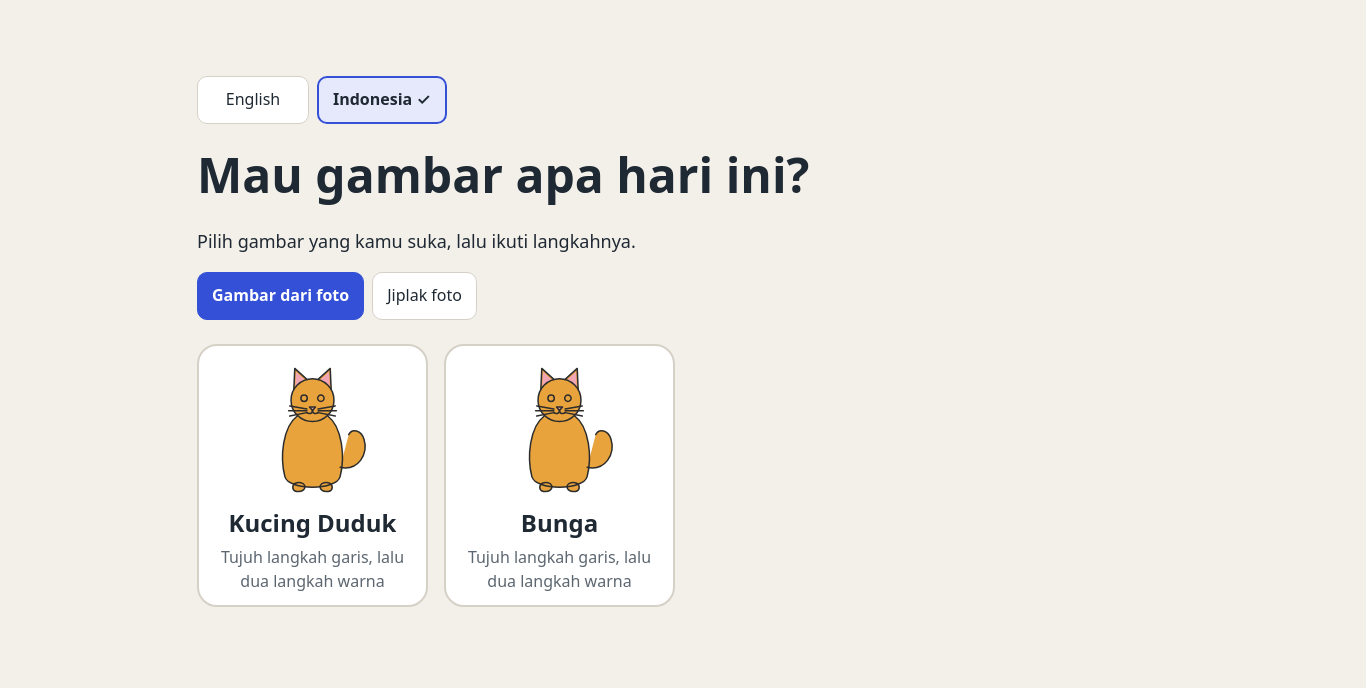
it: leaving a drawing › reopens the latest work before its exit save finishes
expect the heading "Mau gambar apa hari ini?" is shown: met, box left=197, top=142, right=809, bottom=207
Click the button "Kucing Duduk Tujuh langkah garis, lalu dua langkah warna": (312, 475) left=197, top=344, right=428, bottom=607
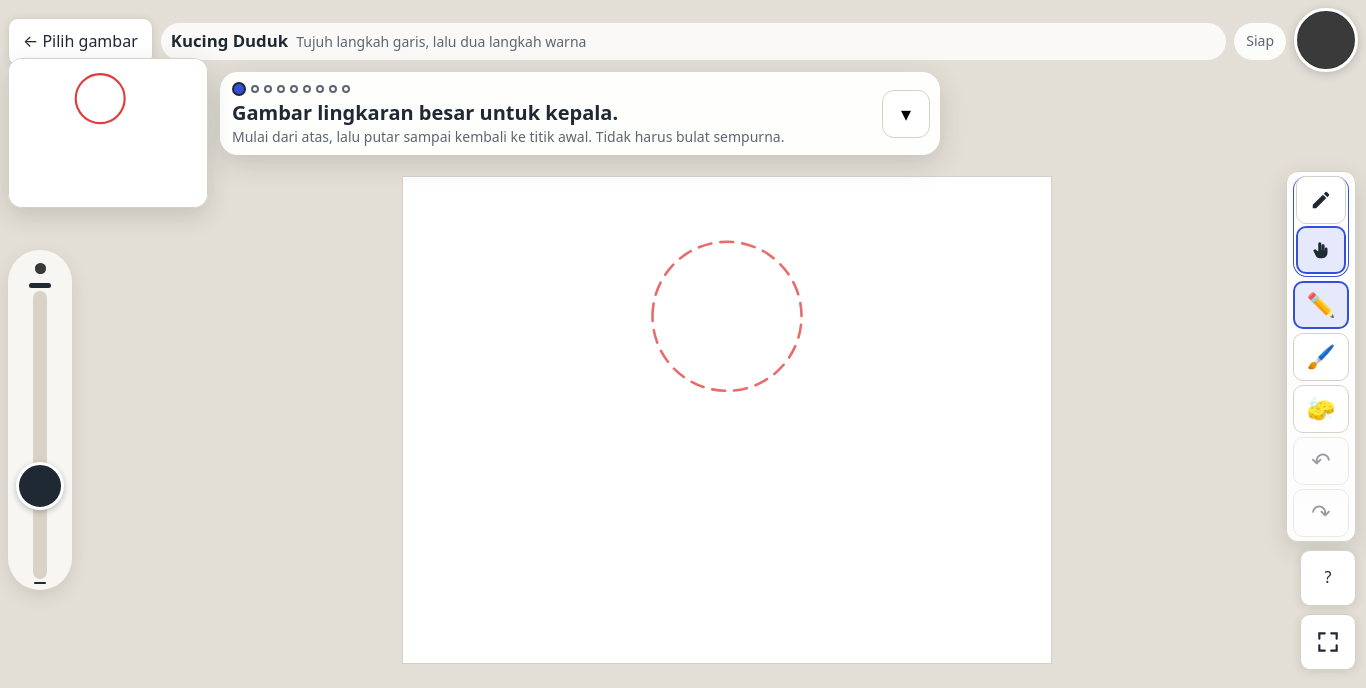
expect the heading "Kucing Duduk" is shown: met, box left=171, top=29, right=288, bottom=54
Press the mouse on the picture named "Kanvas gambar": (727, 420) left=403, top=177, right=1051, bottom=663
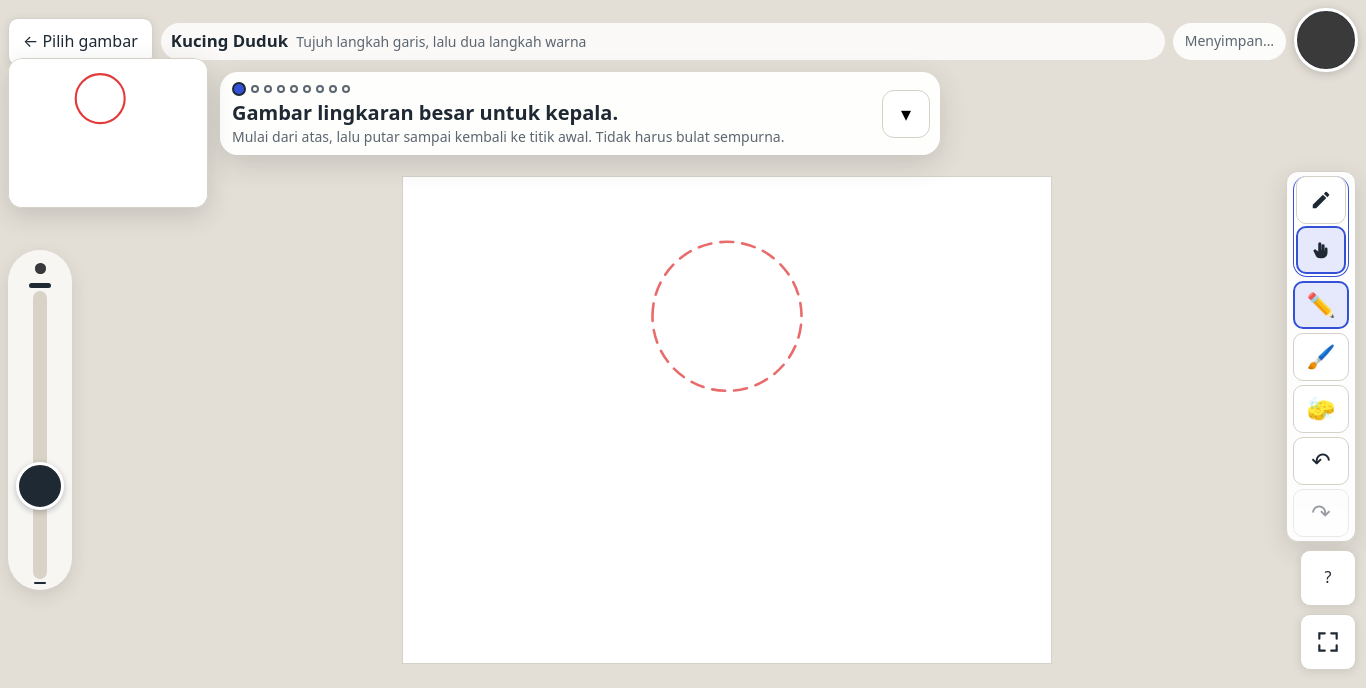
Click the button "← Pilih gambar": (80, 42) left=8, top=18, right=153, bottom=66
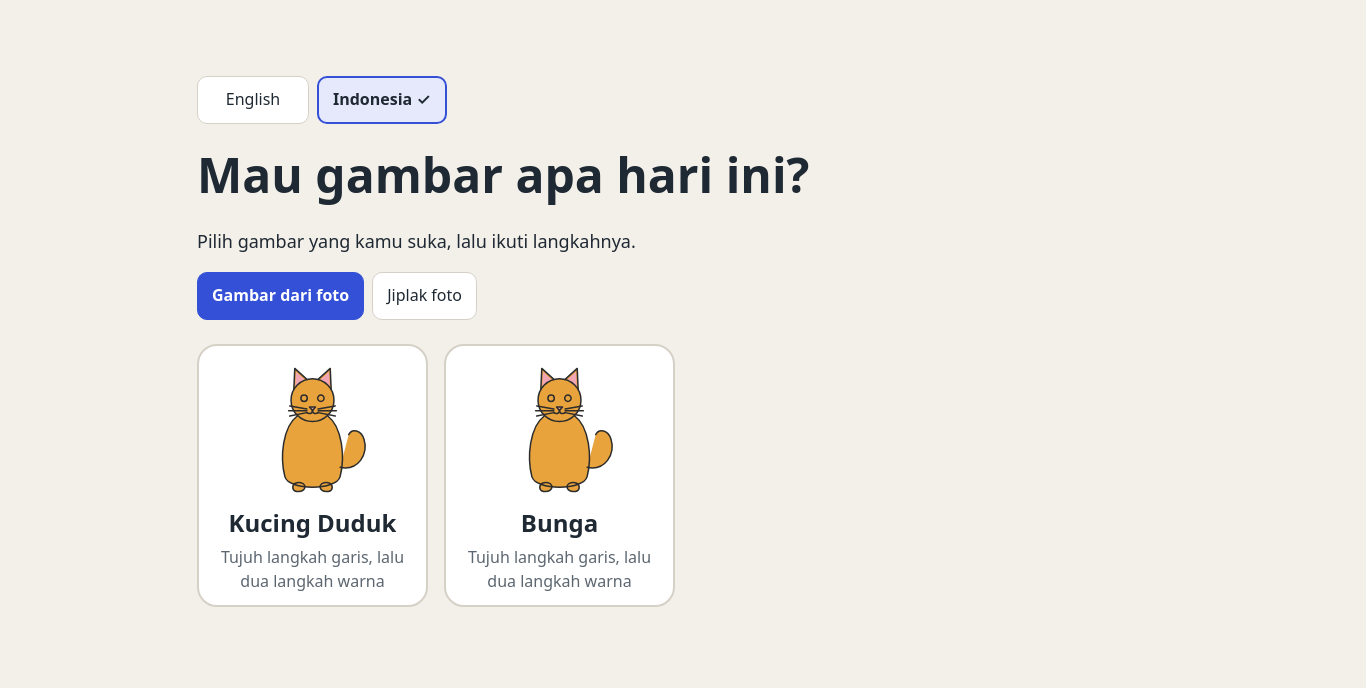
expect the heading "Mau gambar apa hari ini?" is shown: met, box left=197, top=142, right=809, bottom=207
Click the button "Kucing Duduk Tujuh langkah garis, lalu dua langkah warna": (312, 475) left=197, top=344, right=428, bottom=607
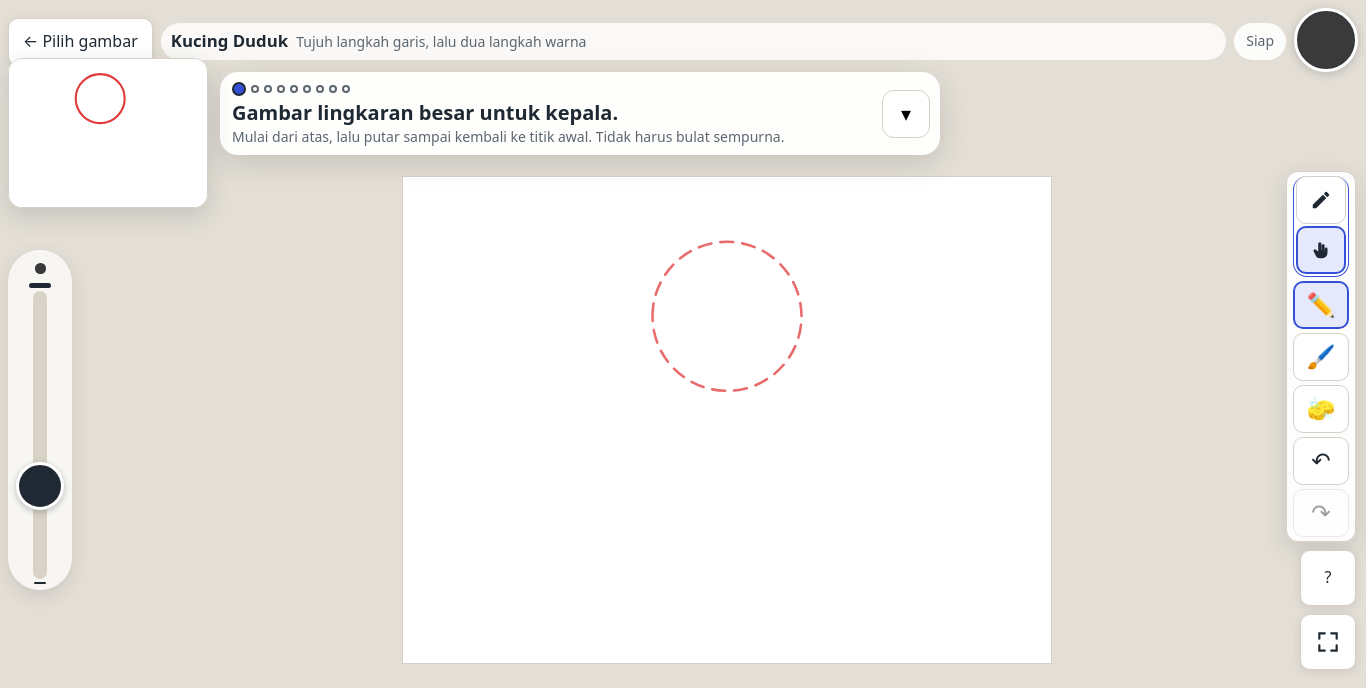
expect the heading "Kucing Duduk" is shown: met, box left=171, top=29, right=288, bottom=54
expect the button named "Batalkan" is enabled: met, box left=1293, top=436, right=1349, bottom=484
Press the mouse on the picture named "Kanvas gambar": (727, 420) left=403, top=177, right=1051, bottom=663
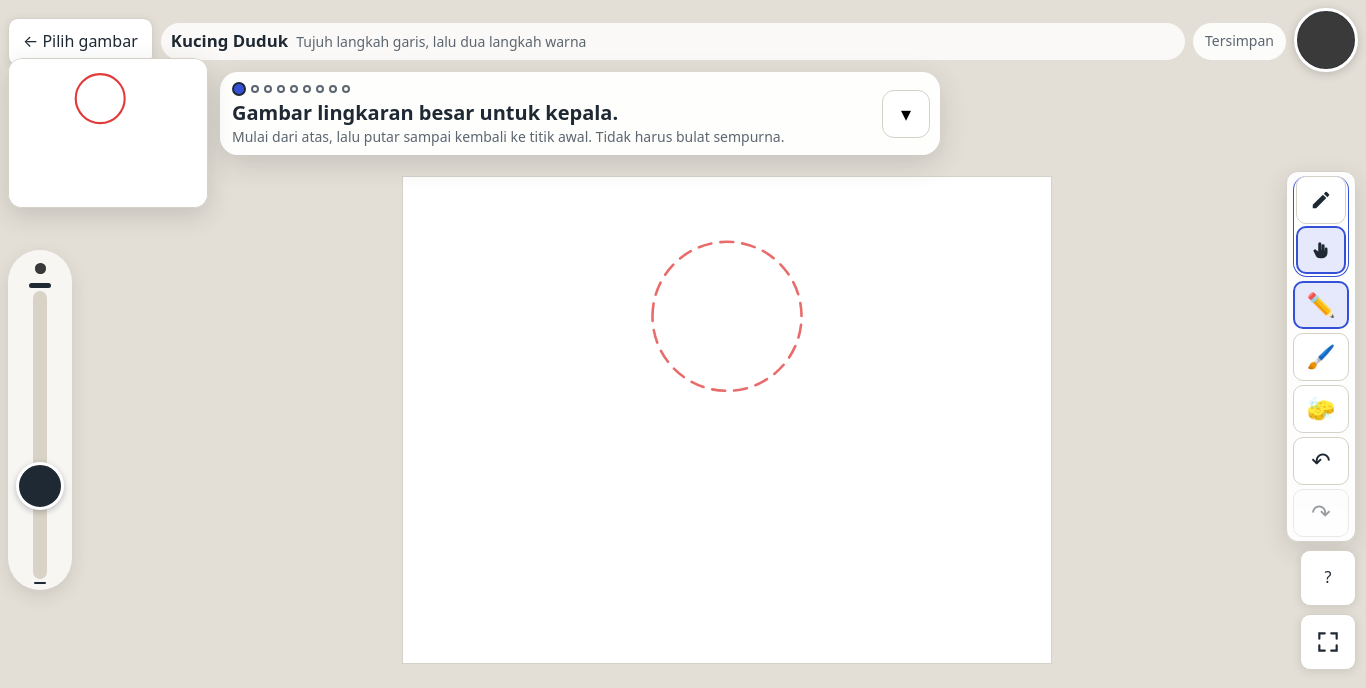
expect the button named "Batalkan" is enabled: met, box left=1293, top=436, right=1349, bottom=484
Click the button "← Pilih gambar": (80, 42) left=8, top=18, right=153, bottom=66
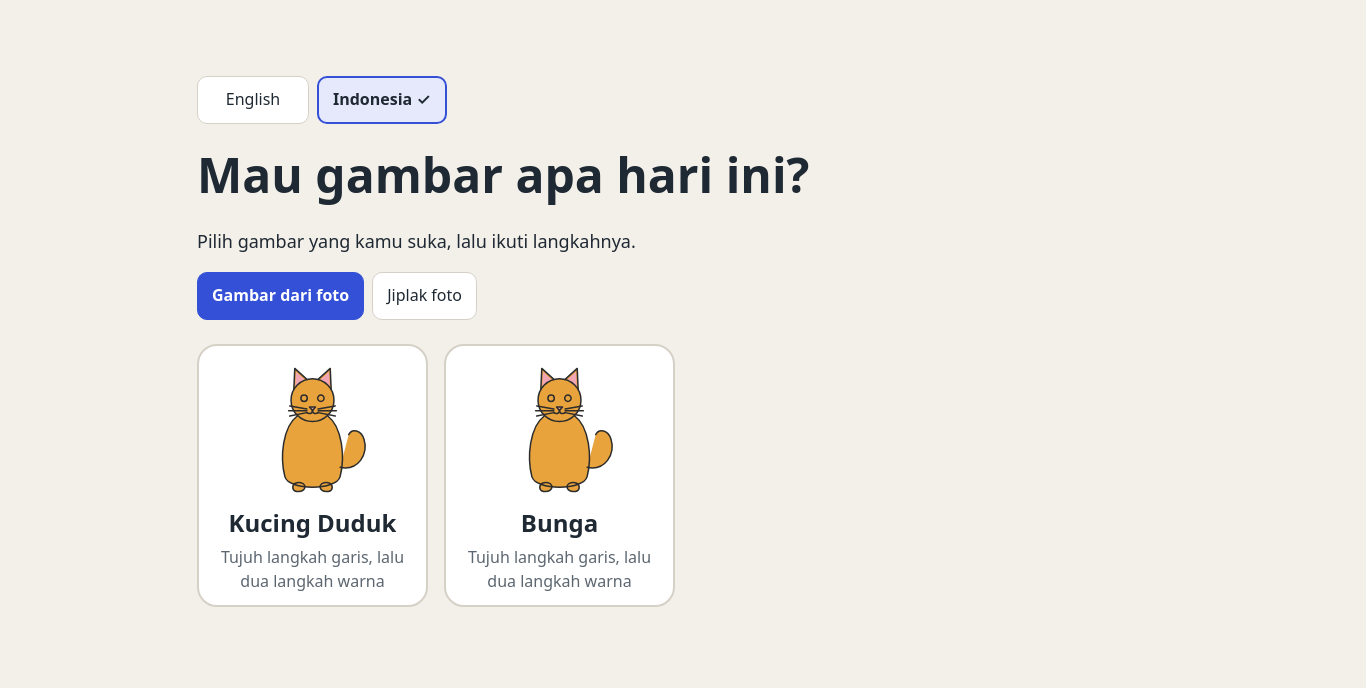
expect the heading "Mau gambar apa hari ini?" is shown: met, box left=197, top=142, right=809, bottom=207
